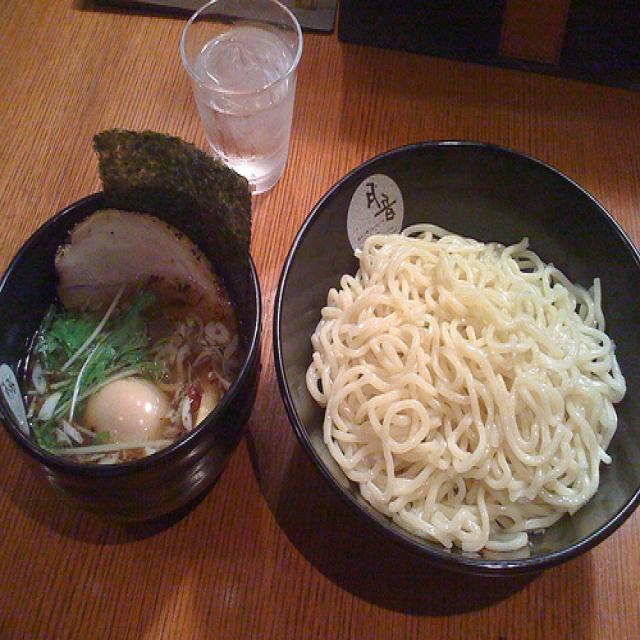面条主食: (12, 230, 616, 544)
